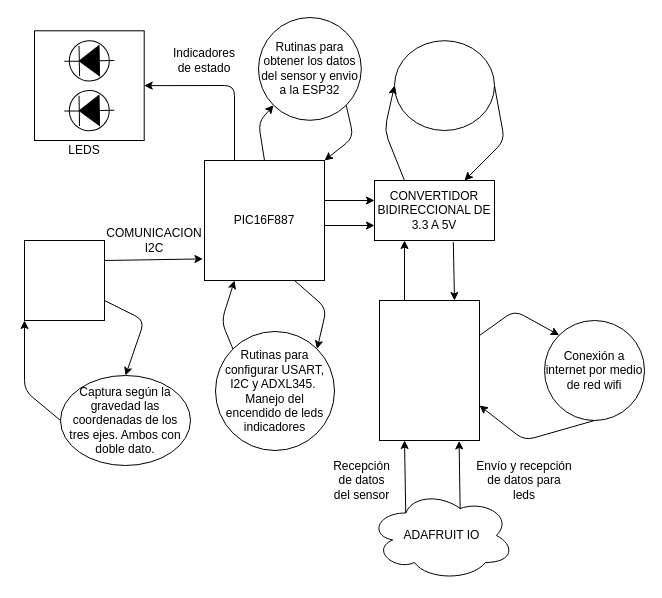
The diagram is 662 pixels wide and 598 high, and some of its shapes have lost their labels. Each missing label, with the centre of its shape:
"ADXL345" goes at [64,280].
"Conversión por medio de transistores" goes at [444,85].
"ESP32" goes at [429,370].
